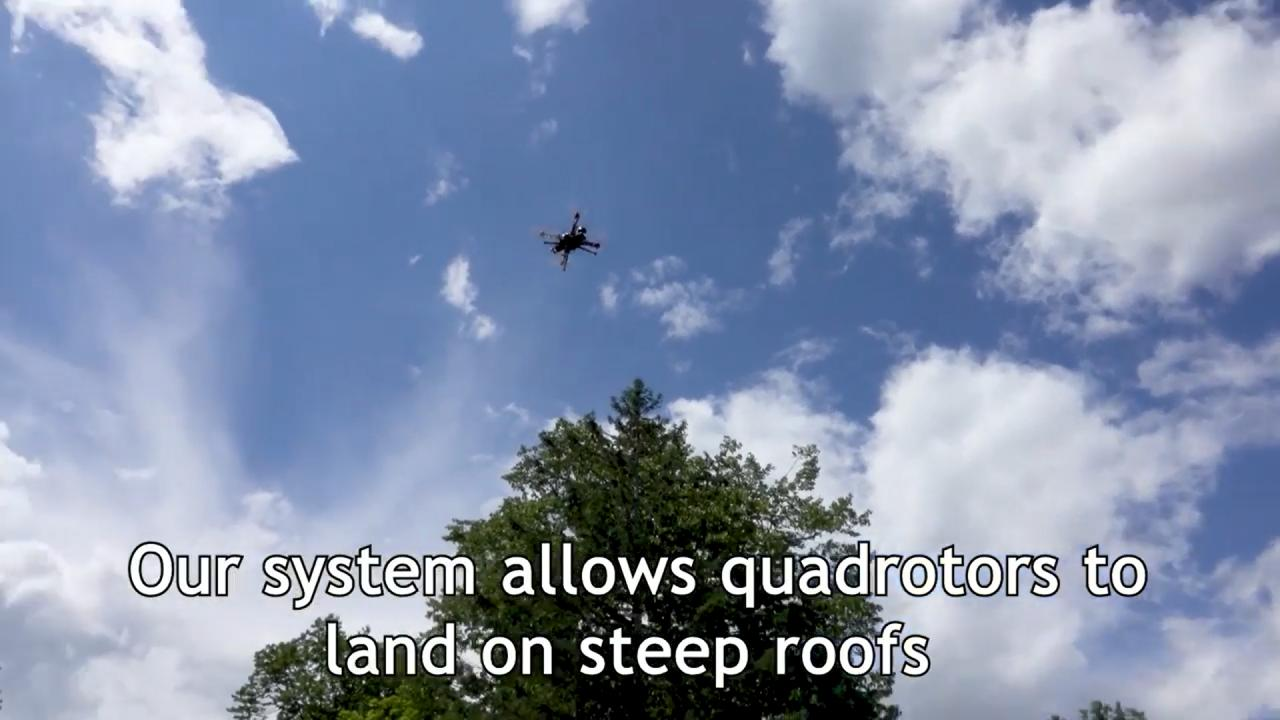Drone: (527, 204, 614, 280)
